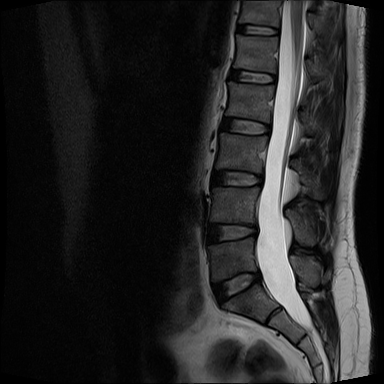Lumbar Disc Bulge (LDB): (200, 220, 263, 247)
Normal IVD: (206, 264, 266, 310), (205, 164, 267, 190), (220, 63, 279, 88), (217, 112, 273, 138), (229, 22, 282, 40)
Spinal Stenosis (SS): (245, 220, 263, 241)
